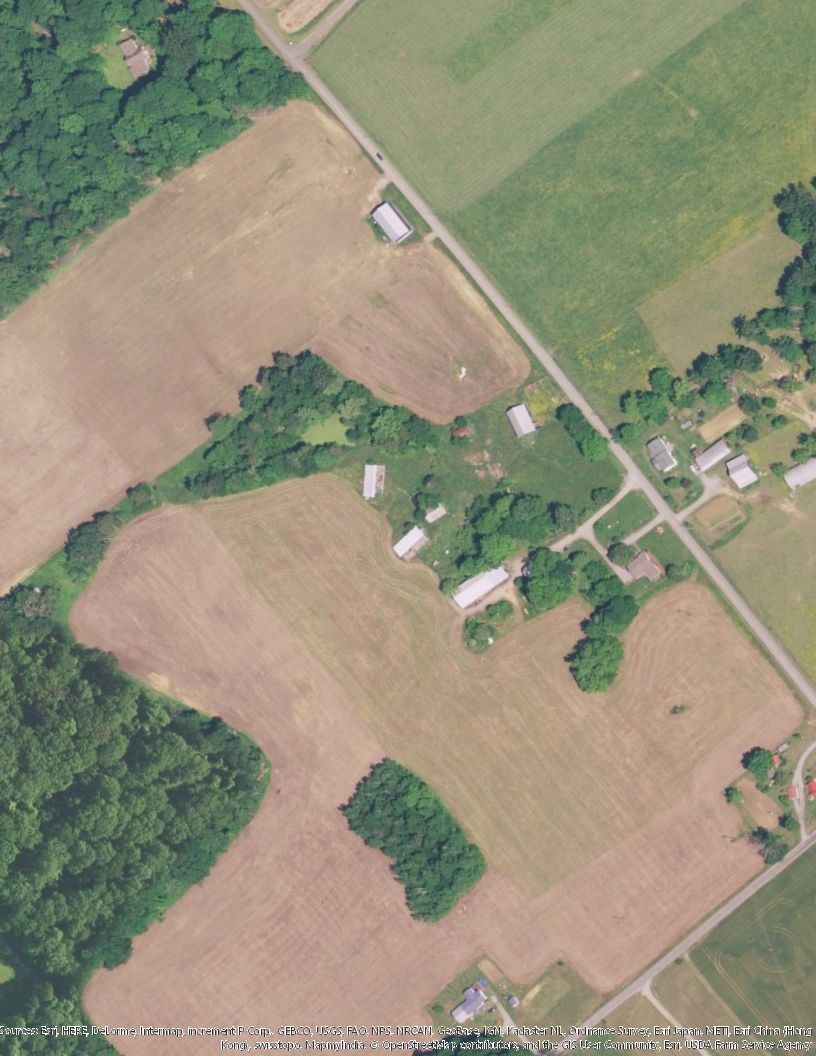cafo: (445, 557, 514, 607), (387, 524, 429, 559)
